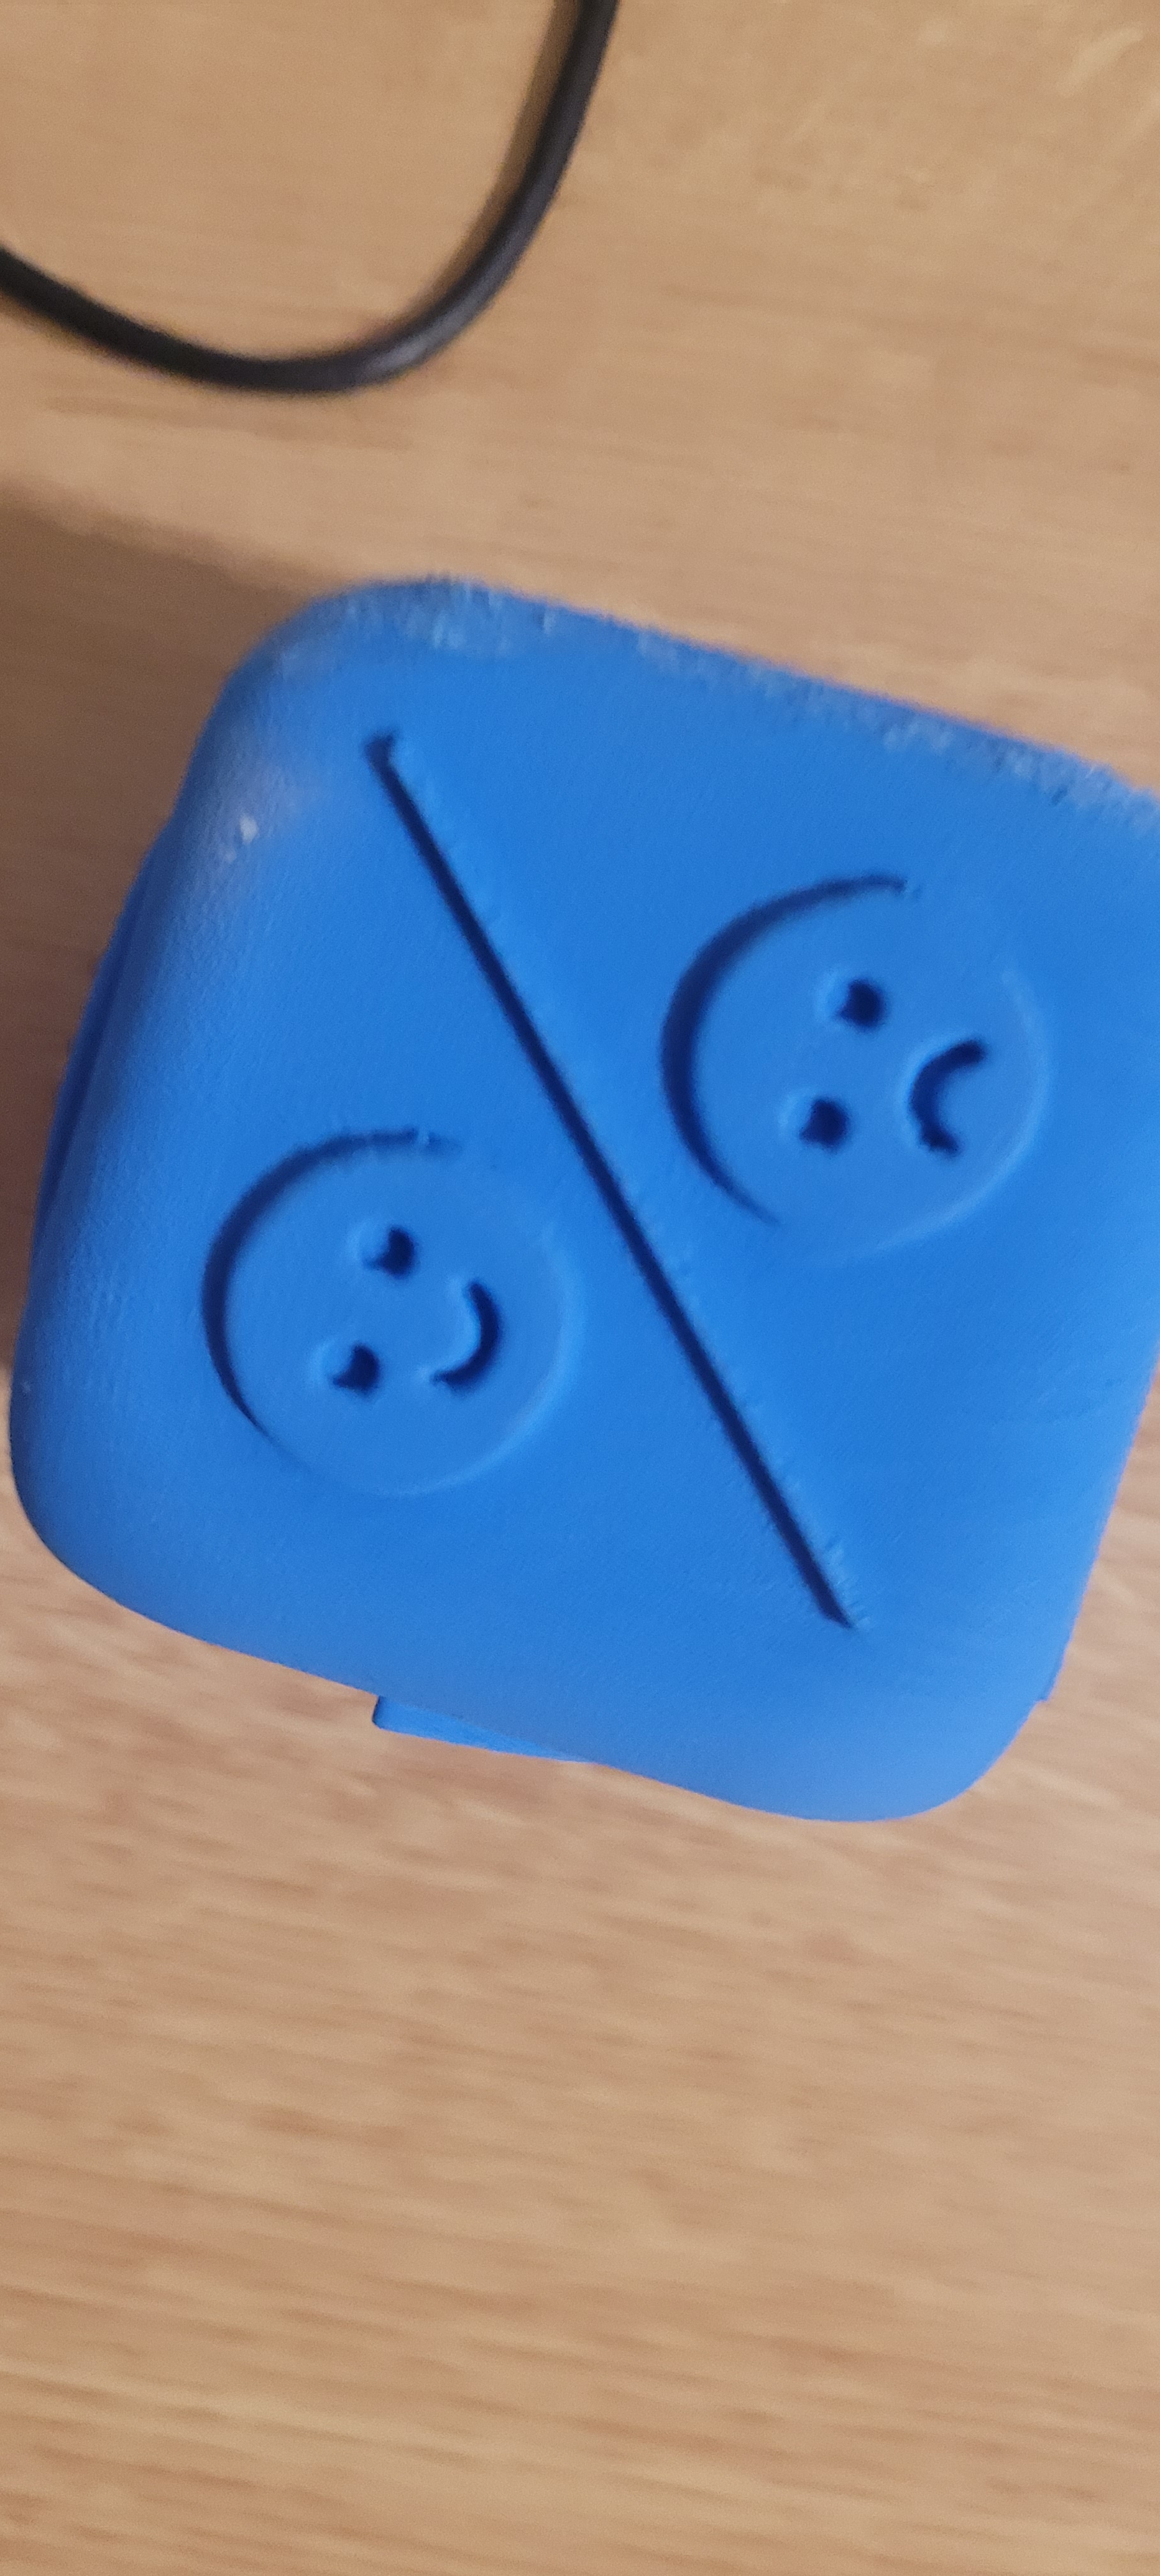Like/Dislike: (112, 552, 1122, 1748)
